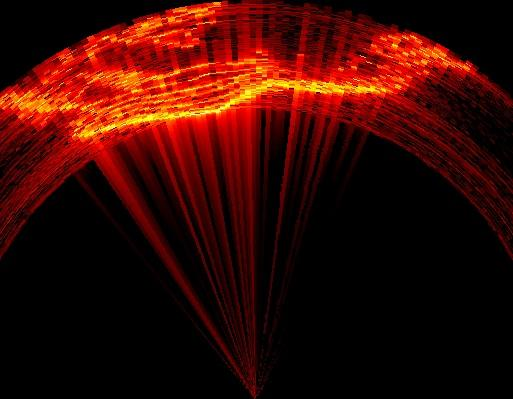shipwreck: (7, 64, 382, 139), (85, 2, 220, 53), (374, 32, 468, 93)
